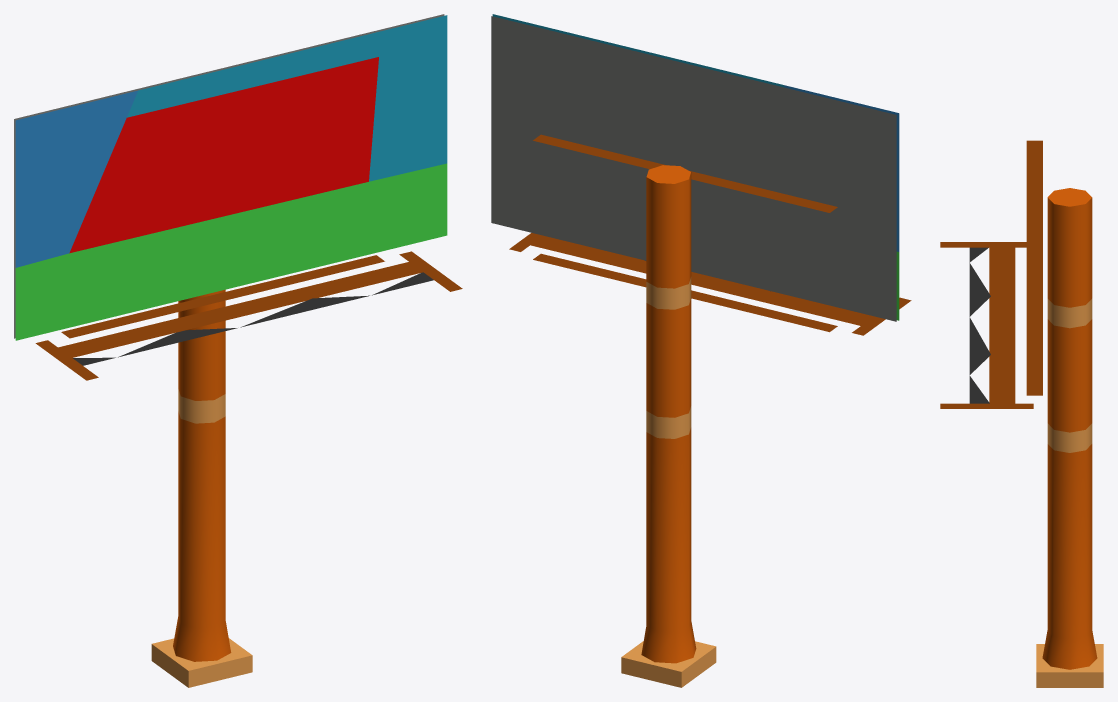
The model's file is SM_prop_advertisement_02.fbx.
3 views of the same model, side by side, from view 1: azimuth 30°, elevation 25°; view 2: azimuth 150°, elevation 25°; view 3: azimuth 270°, elevation 25° (orthographic). The views are drawn at different scales.
Visible parts, largest first — view 1: SM_prop_advertisement_02_LOD0; view 2: SM_prop_advertisement_02_LOD0; view 3: SM_prop_advertisement_02_LOD0.
Part boxes in pixels (x1=…): SM_prop_advertisement_02_LOD0: x1=14, y1=14, x2=462, y2=687; SM_prop_advertisement_02_LOD0: x1=491, y1=14, x2=911, y2=687; SM_prop_advertisement_02_LOD0: x1=940, y1=140, x2=1103, y2=687.
Size of what is drawn, in the model's own units: 6.21 by 8.53 by 2.23.
